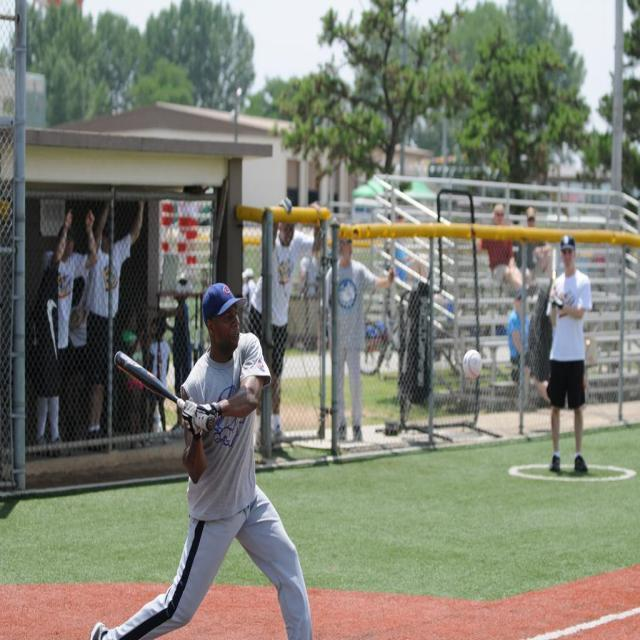ball: (462, 349, 483, 379)
bat: (111, 349, 185, 408)
